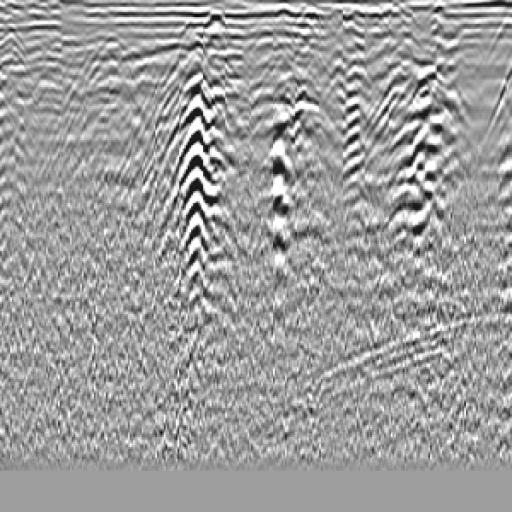metalic: (236, 59, 340, 253)
